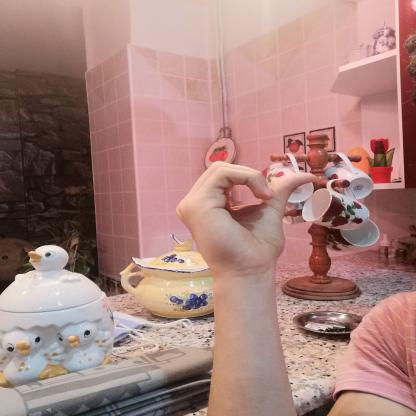WAW: (160, 152, 330, 289)
